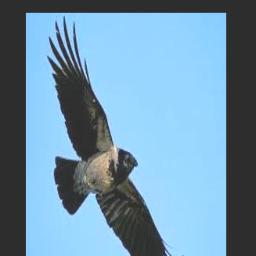Crow: (47, 15, 183, 256)
